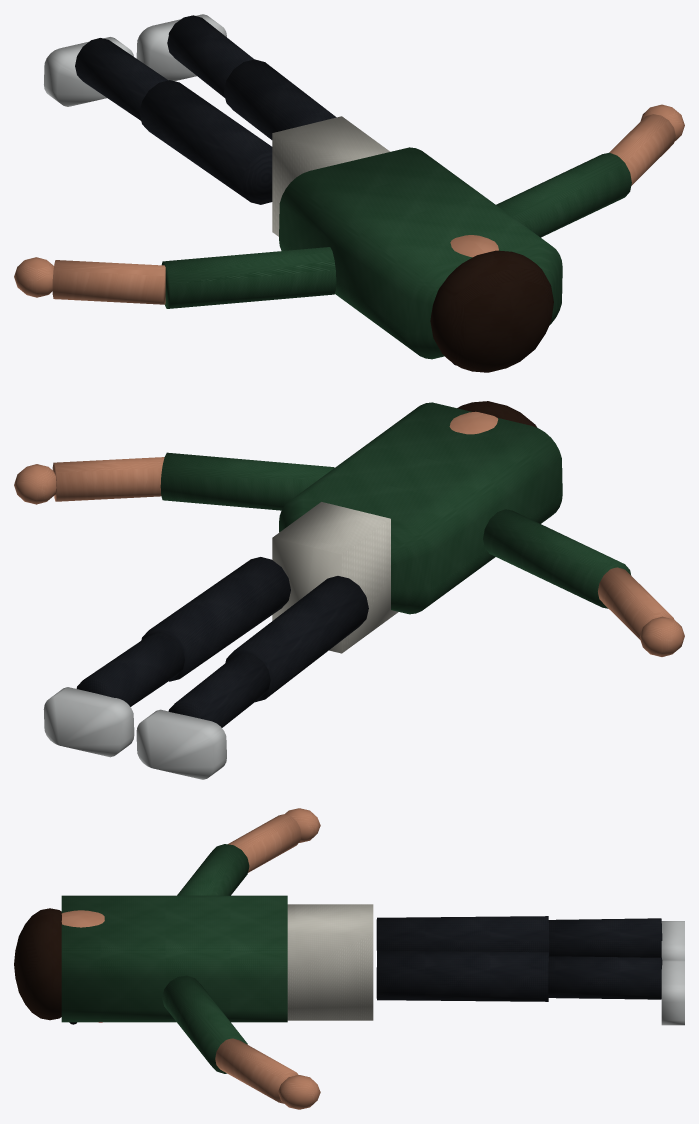
File: CHAR_FEMALE_001.glb
3 renders of one model, top to bottom at view 1: azimuth 30°, elevation 25°; view 2: azimuth 150°, elevation 25°; view 3: azimuth 270°, elevation 25°, orthographic. The views are drawn at different scales.
Visible parts, largest first — view 1: torso_jacket_003, hair_cap_001, thigh_011, upper_arm_005, upper_arm_008, shirt_panel_004, thigh_014, forearm_006, shin_012, shin_015, forearm_009, shoe_013 (+4 smaller); view 2: torso_jacket_003, shirt_panel_004, thigh_014, thigh_011, upper_arm_008, upper_arm_005, shoe_013, shoe_016, shin_015, forearm_009, shin_012, forearm_006 (+4 smaller); view 3: torso_jacket_003, shirt_panel_004, thigh_014, thigh_011, shin_015, hair_cap_001, shin_012, upper_arm_008, forearm_009, upper_arm_005, forearm_006, shoe_016 (+4 smaller).
Boxes of the visible parts, x1,y1,x2,y2 form: torso_jacket_003: [279, 147, 562, 359]; hair_cap_001: [430, 250, 553, 372]; thigh_011: [139, 80, 272, 204]; upper_arm_005: [161, 247, 336, 308]; upper_arm_008: [496, 152, 631, 237]; shirt_panel_004: [272, 116, 390, 236]; thigh_014: [224, 59, 336, 139]; forearm_006: [52, 260, 165, 304]; shin_012: [75, 38, 167, 120]; shin_015: [167, 15, 254, 97]; forearm_009: [609, 114, 675, 185]; shoe_013: [44, 37, 133, 106]; torso_jacket_003: [279, 402, 562, 614]; shirt_panel_004: [272, 502, 398, 653]; thigh_014: [141, 557, 290, 681]; thigh_011: [225, 576, 368, 702]; upper_arm_008: [160, 452, 334, 510]; upper_arm_005: [483, 509, 631, 608]; shoe_013: [136, 709, 226, 779]; shoe_016: [43, 687, 134, 757]; shin_015: [76, 632, 184, 706]; forearm_009: [52, 457, 164, 501]; shin_012: [168, 652, 270, 727]; forearm_006: [598, 567, 673, 639]; torso_jacket_003: [61, 895, 287, 1022]; shirt_panel_004: [287, 904, 373, 1020]; thigh_014: [376, 950, 548, 1001]; thigh_011: [376, 916, 549, 955]; shin_015: [548, 956, 662, 999]; hair_cap_001: [14, 908, 61, 1020]; shin_012: [548, 918, 662, 957]; upper_arm_008: [162, 975, 247, 1073]; forearm_009: [215, 1038, 298, 1103]; upper_arm_005: [177, 844, 249, 895]; forearm_006: [228, 814, 301, 872]; shoe_016: [661, 960, 684, 1025].
Size of the model in its own units: 1.72 by 0.2918 by 1.72.
Materials: 8 (8 with a texture image).
